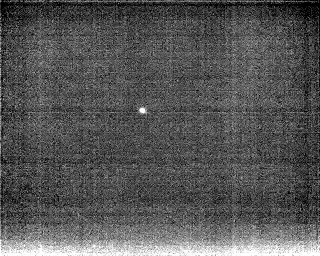AIRPLANE: (138, 105, 148, 116)
